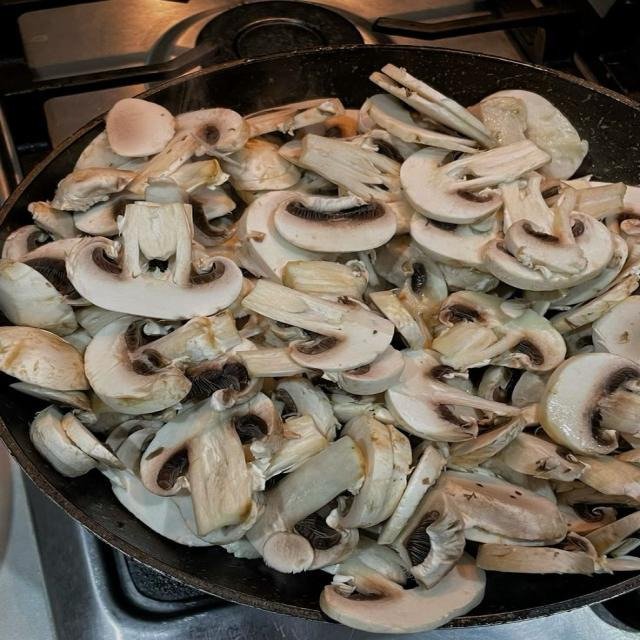champignon mushrooms: (0, 66, 639, 632), (67, 203, 242, 319), (140, 400, 280, 535), (247, 438, 365, 572), (85, 316, 239, 414), (484, 177, 613, 290), (243, 280, 393, 371), (320, 555, 485, 633), (400, 141, 549, 224), (386, 350, 519, 442), (433, 291, 566, 371), (370, 64, 495, 147), (539, 353, 639, 455), (435, 471, 566, 545), (486, 90, 587, 179), (237, 192, 326, 281), (340, 416, 411, 527), (274, 195, 396, 253), (378, 444, 446, 544), (365, 94, 474, 152), (0, 259, 77, 335), (0, 327, 88, 390), (30, 406, 98, 476), (499, 433, 586, 481), (107, 98, 174, 157), (52, 168, 135, 211), (282, 261, 368, 300), (593, 296, 639, 362)
